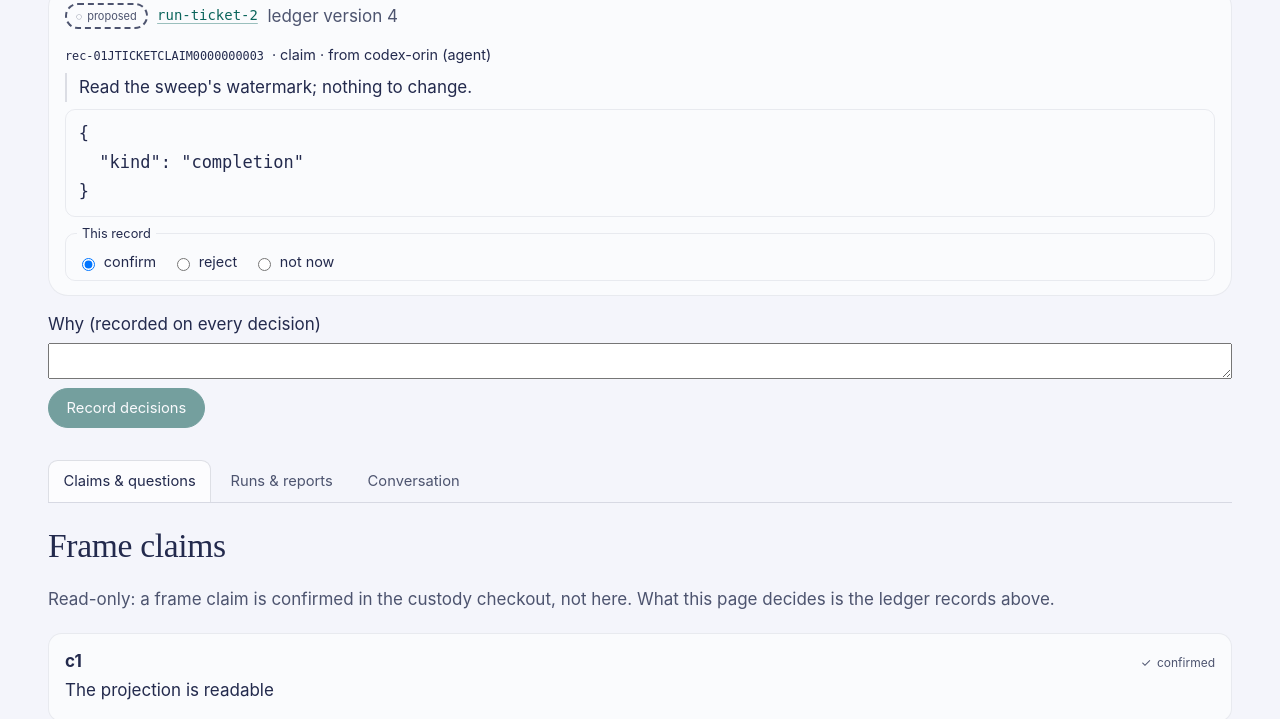
Test: TicketView claim reviews (task t12) › offers nothing more to record once every claim has been decided
(page scrolled)
Type "read both" into the text box labelled "Why (recorded on every decision)".
click(640, 360); type("read both")  # box [48, 342, 1232, 378]
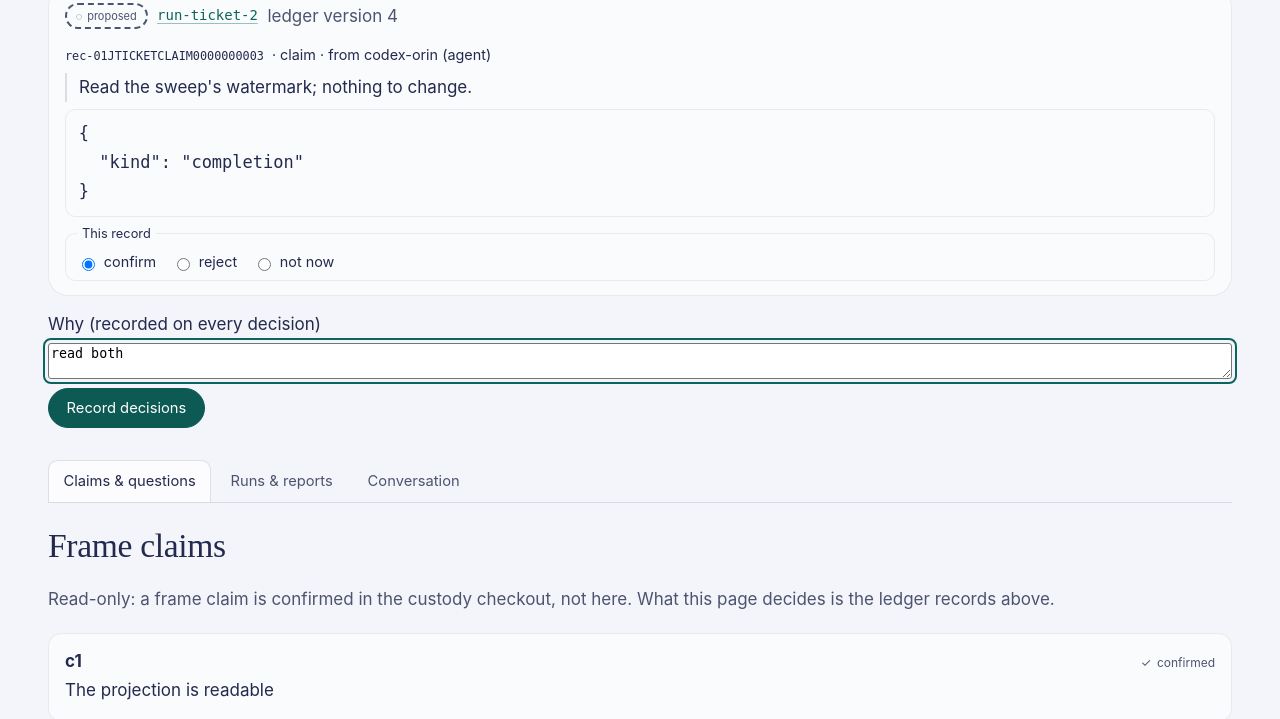
Click the button "Record decisions".
click(126, 408)  # box [48, 388, 205, 428]
(page scrolled)
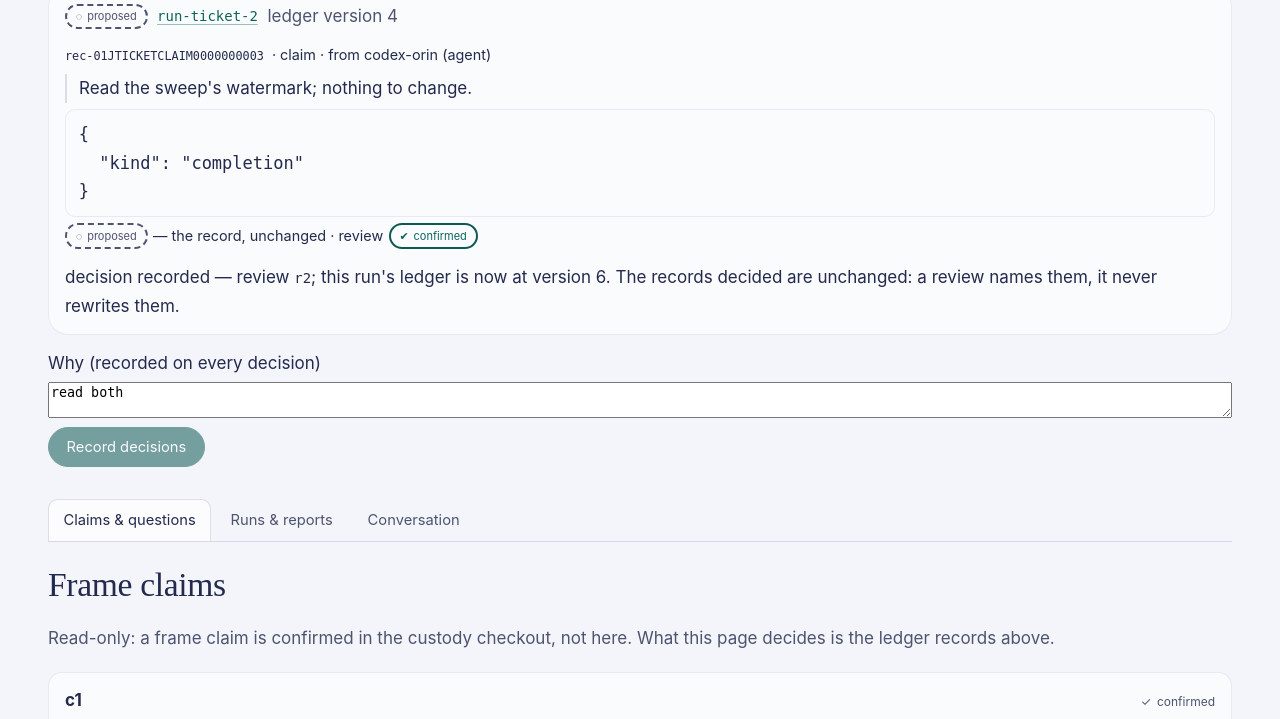
expect the button "Record decisions" is disabled: met, box [48, 427, 205, 467]
